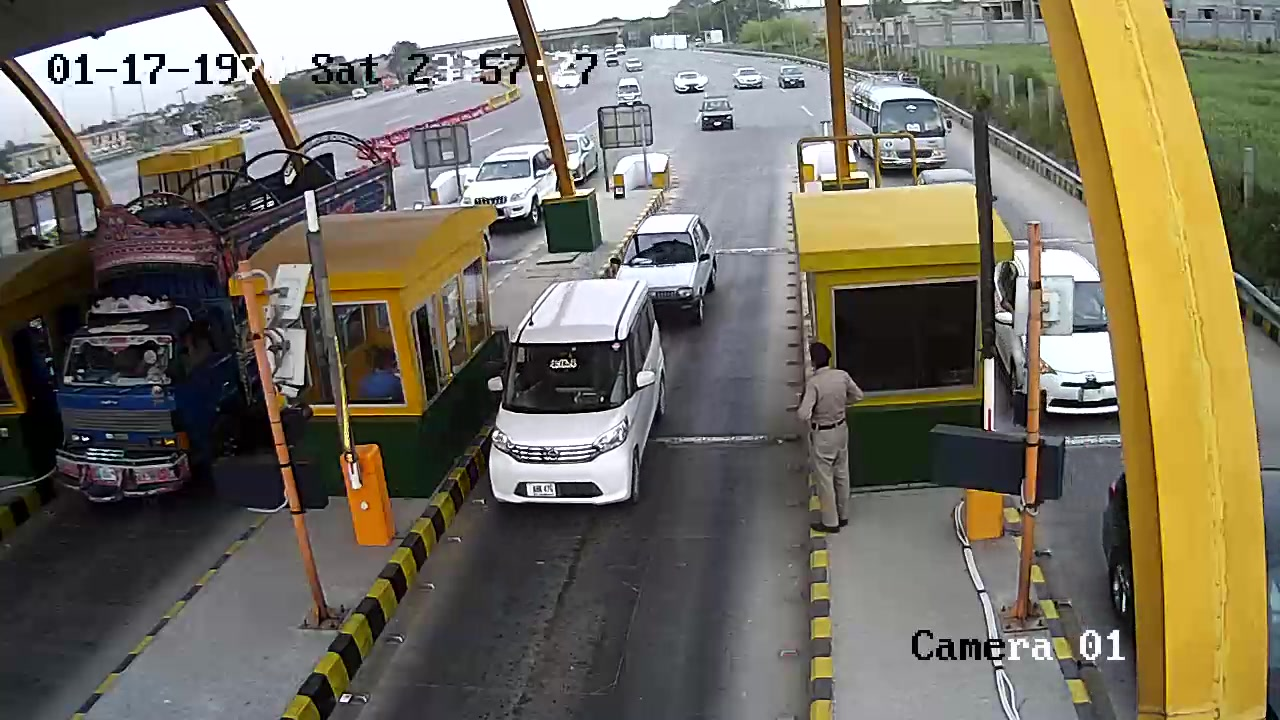F1: (468, 281, 669, 537)
